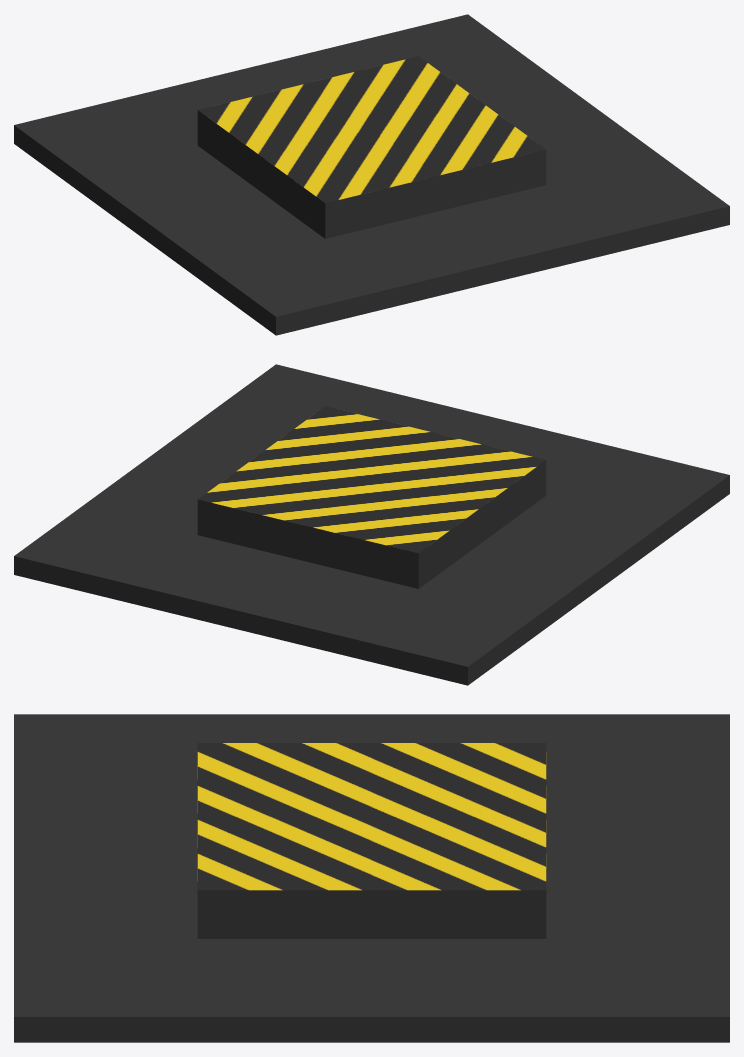
File: UnderHook Fix.fbx
3 renders of one model, top to bottom at view 1: azimuth 30°, elevation 25°; view 2: azimuth 150°, elevation 25°; view 3: azimuth 270°, elevation 25°, orthographic. The views are drawn at different scales.
Visible parts, largest first — view 1: Cube.001, Cube_001.001; view 2: Cube.001, Cube_001.001; view 3: Cube.001, Cube_001.001.
Boxes of the visible parts, x1,y1,x2,y2 form: Cube.001: (14,14,729,335); Cube_001.001: (197,56,546,238); Cube.001: (14,364,729,685); Cube_001.001: (197,406,546,588); Cube.001: (14,714,729,1042); Cube_001.001: (197,743,546,938).
Size of the model in its own units: 75.65 by 8.7 by 75.65.
Materials: 2 (1 with a texture image).
